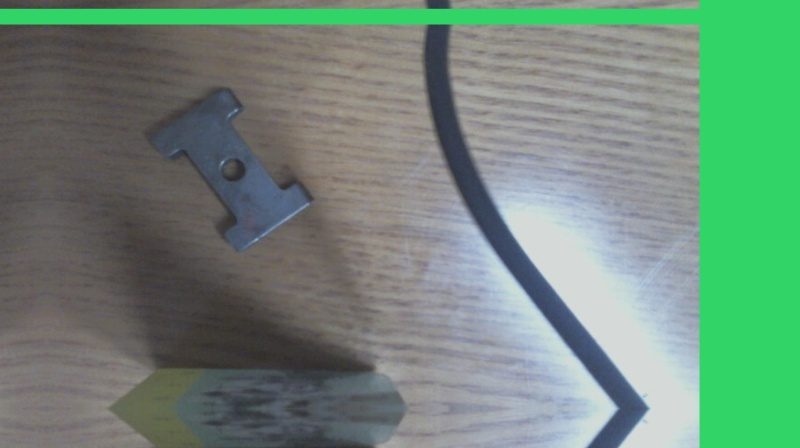O002: (143, 87, 318, 253)
